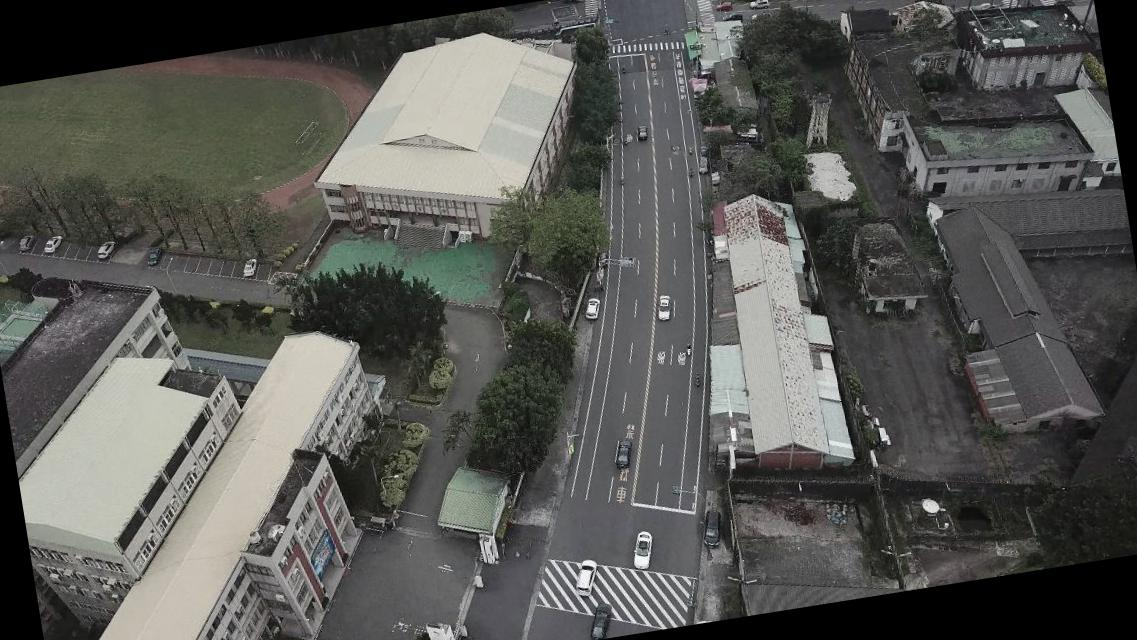vehicle: (584, 598, 617, 640), (629, 528, 659, 572), (571, 556, 602, 598), (700, 508, 728, 550), (612, 437, 635, 470), (655, 293, 676, 323), (94, 237, 118, 260), (42, 232, 65, 254), (583, 296, 603, 321), (16, 232, 37, 254), (144, 246, 165, 267), (242, 257, 262, 278), (636, 123, 650, 142), (696, 154, 710, 173), (721, 10, 744, 21), (749, 0, 773, 10), (716, 1, 734, 12)
